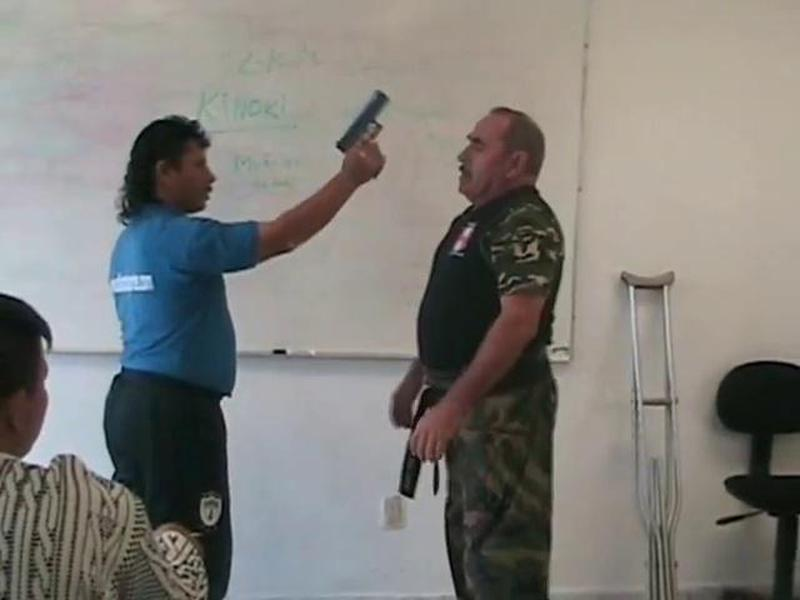Pistola: (334, 88, 396, 160)
